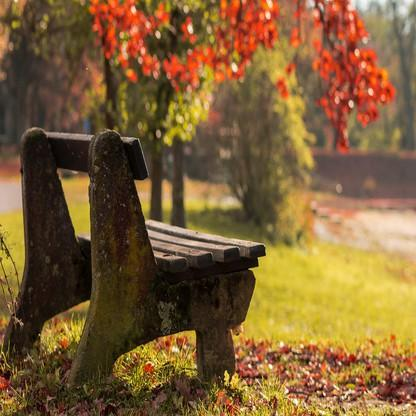obstacle: (10, 116, 272, 407)
